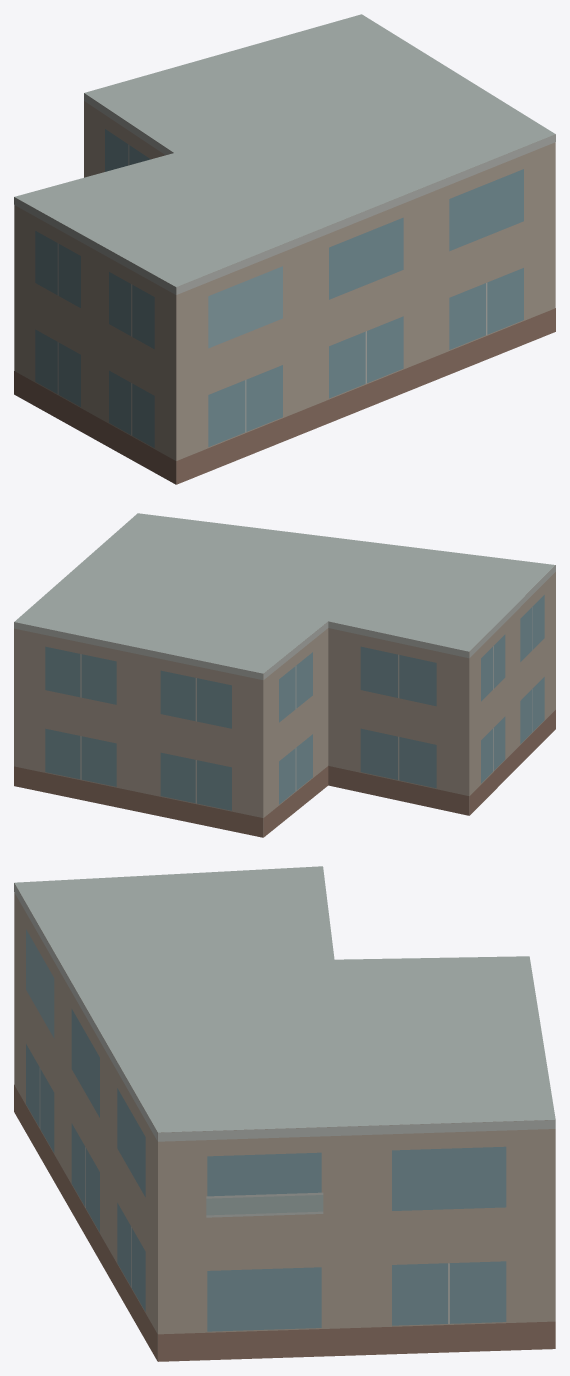
File: survey-upis-32764768.glb
The picture shows the model from 3 angles, top to bottom: view 1: azimuth 30°, elevation 25°; view 2: azimuth 150°, elevation 25°; view 3: azimuth 270°, elevation 25°; orthographic projection. The views are drawn at different scales.
Visible parts, largest first — view 1: survey-upis-32764768.tmp; view 2: survey-upis-32764768.tmp; view 3: survey-upis-32764768.tmp.
Part boxes in pixels (x1,y1,x2,y2): survey-upis-32764768.tmp: (14, 14, 555, 484); survey-upis-32764768.tmp: (14, 513, 555, 837); survey-upis-32764768.tmp: (14, 866, 555, 1361).
Bounding box in the file's own units: 15.22 × 6.1 × 13.08.
